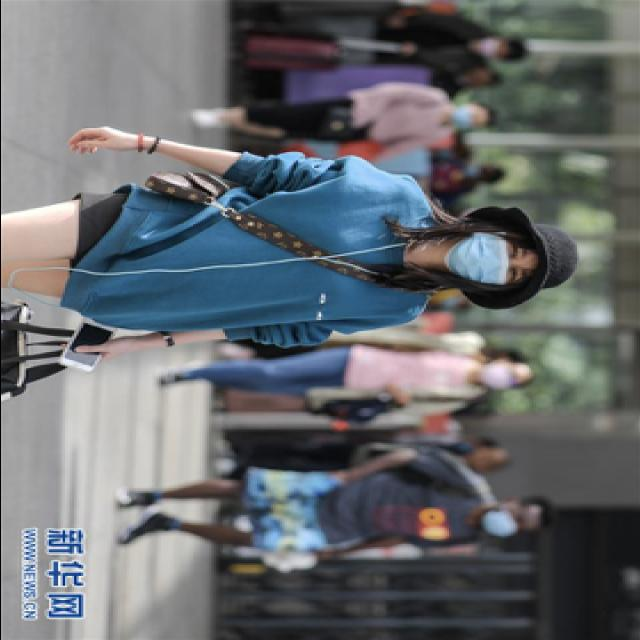mask: (448, 228, 532, 286), (478, 507, 532, 539), (476, 357, 522, 389), (448, 104, 487, 131), (476, 38, 512, 58)
